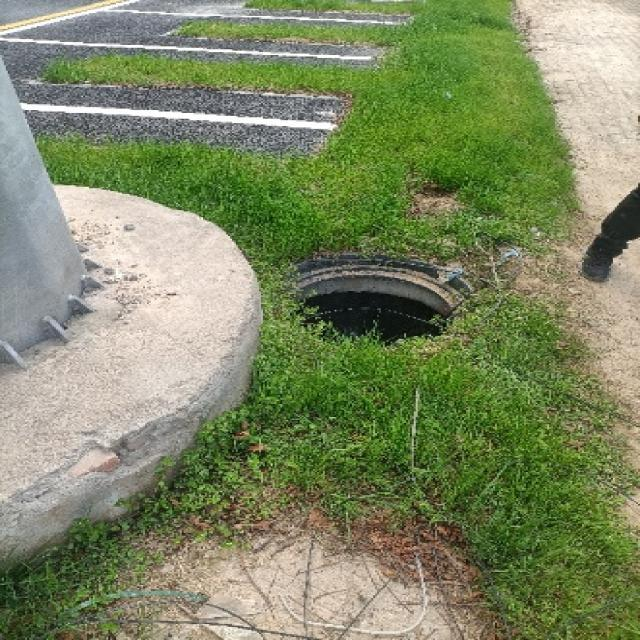Faulty: (270, 250, 488, 362)
